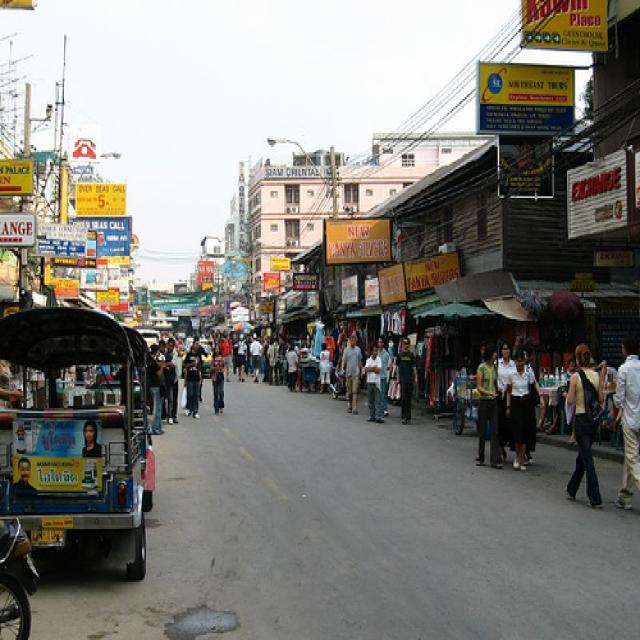motor: (0, 516, 42, 632), (332, 373, 343, 398)
